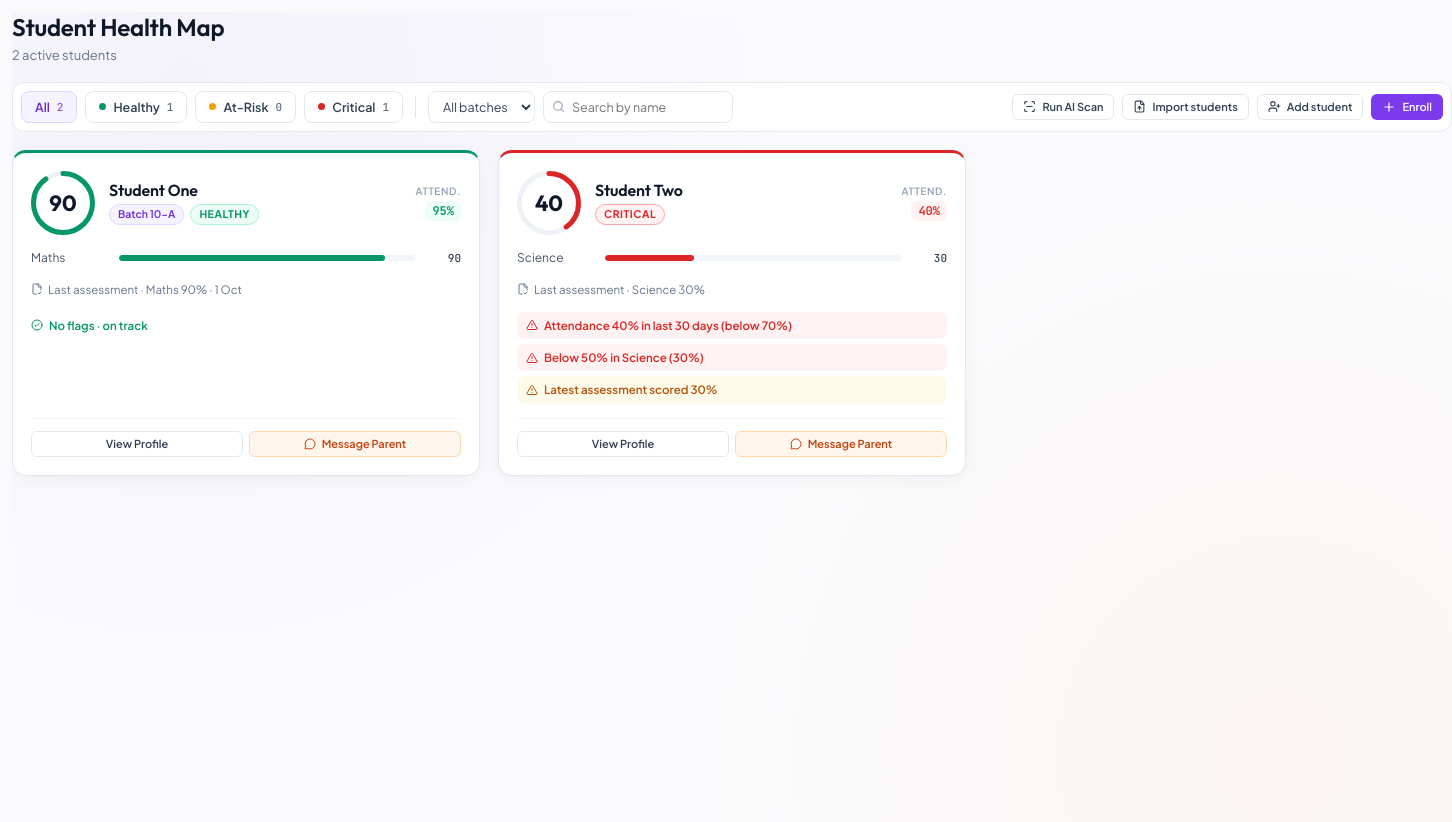
StudentHealthView › runs the AI scan, toasts the real result and refetches
Expected: the heading "Student One" is shown, [109,180,198,200]
Click the button "Run AI Scan" at point(1063, 106), box [1012,94,1114,120]
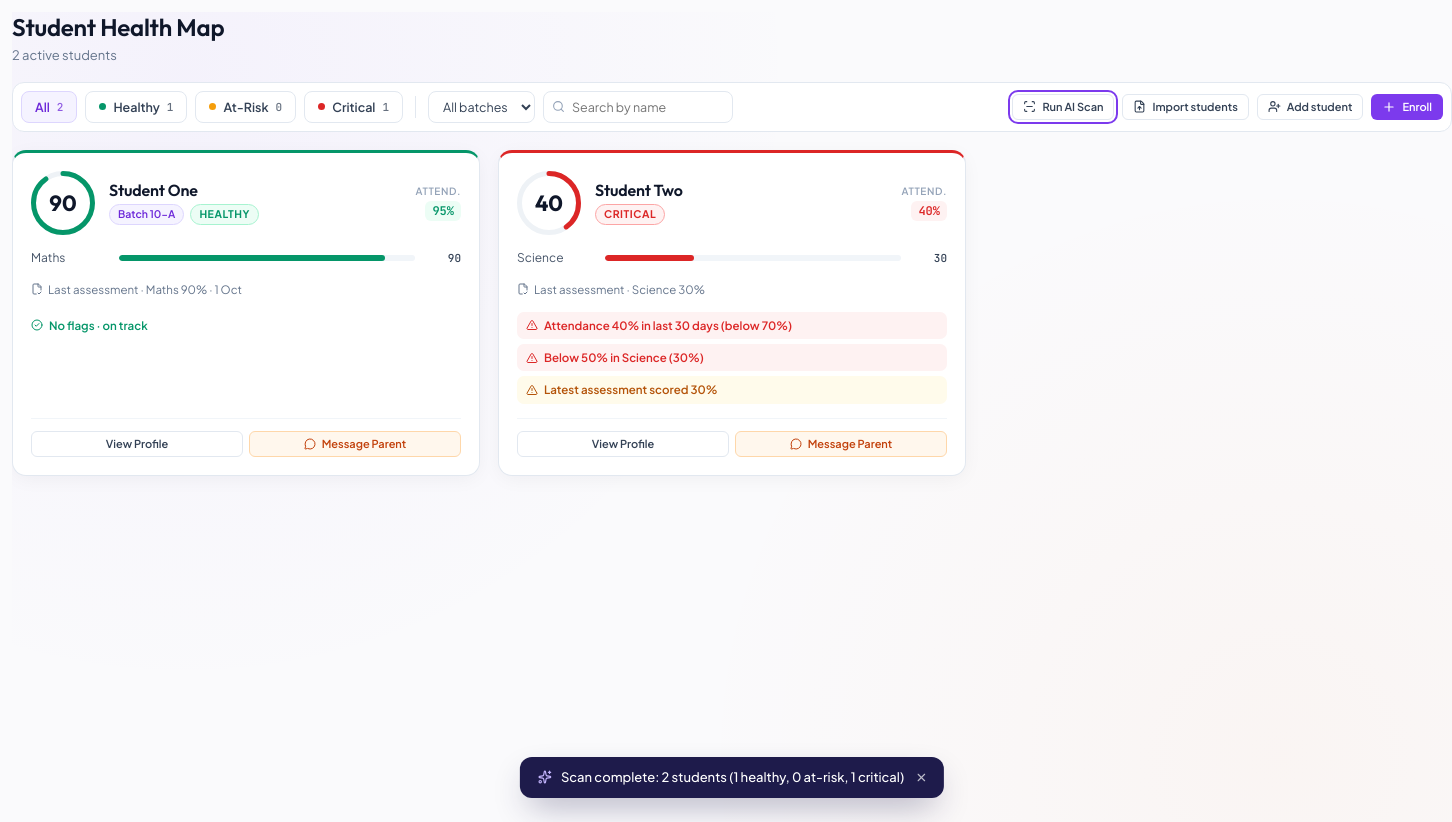
Now the text "Scan complete: 2 students (1 healthy, 0 at-risk, 1 critical)" is shown, box [520,756,944,798]
